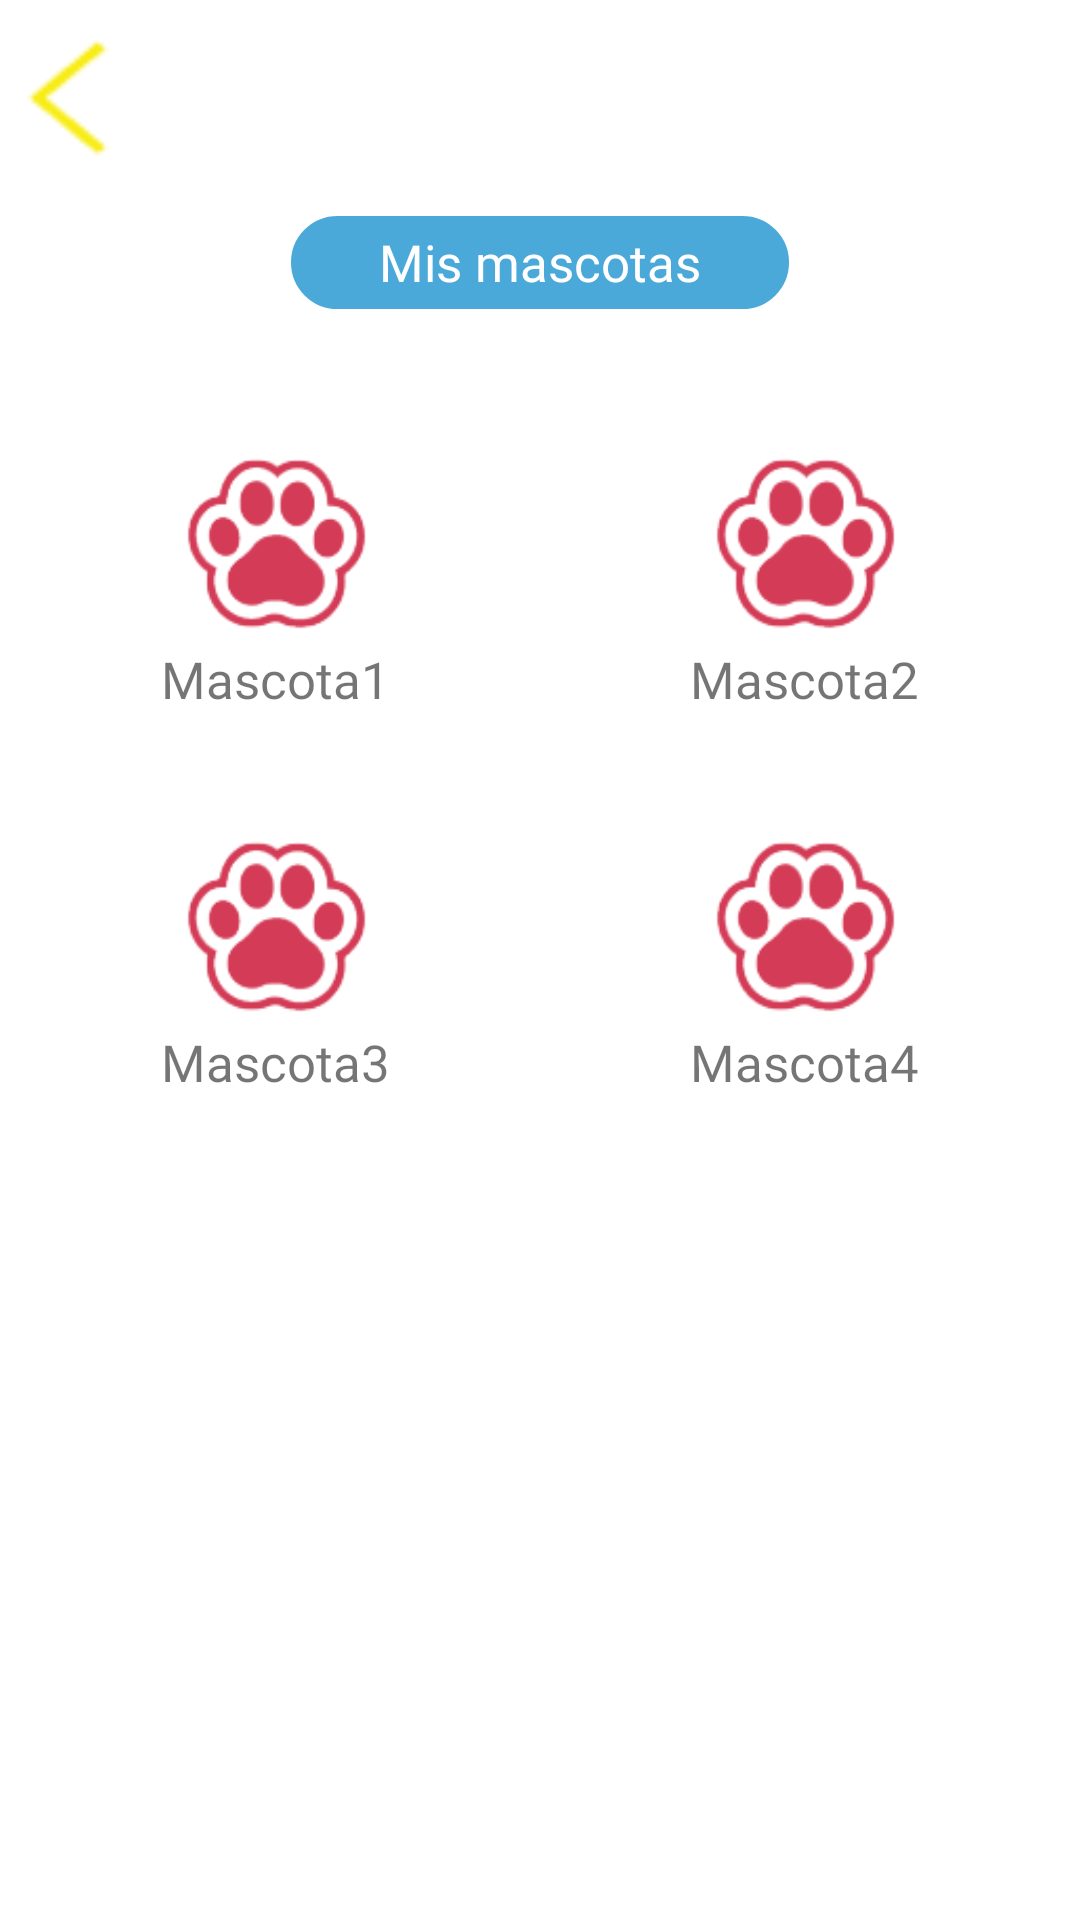

Icon click points for this 1080 × 1920 phone screenshot, format point (x, y):
regresar: point (67, 98)
